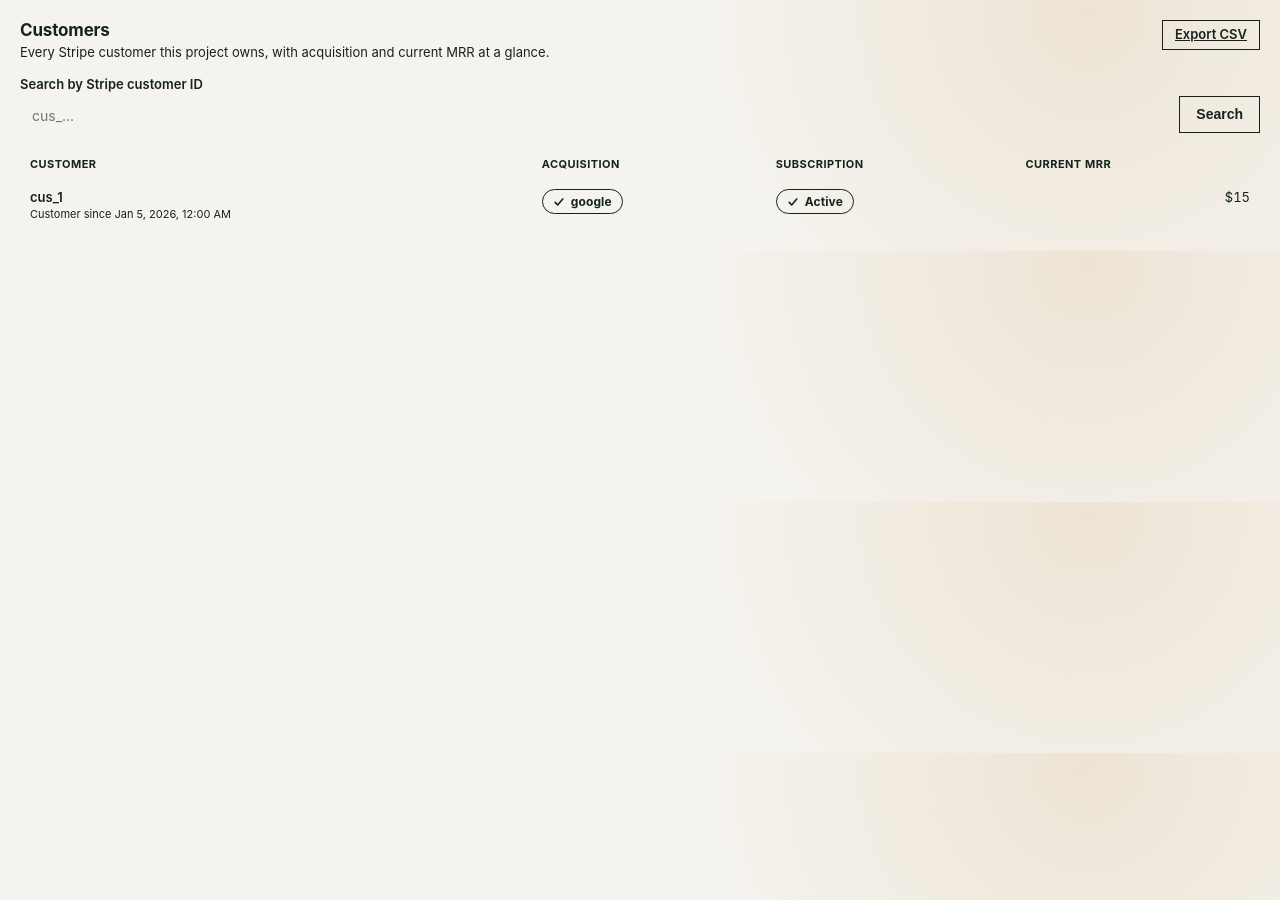
Scenario: CustomersClient › searches by customer ID and refetches
Expected: the link "cus_1" is shown, [30, 189, 63, 205]
In the field labelled "Search by Stripe customer ID": point(594, 116) [20, 98, 1167, 133], type "match"
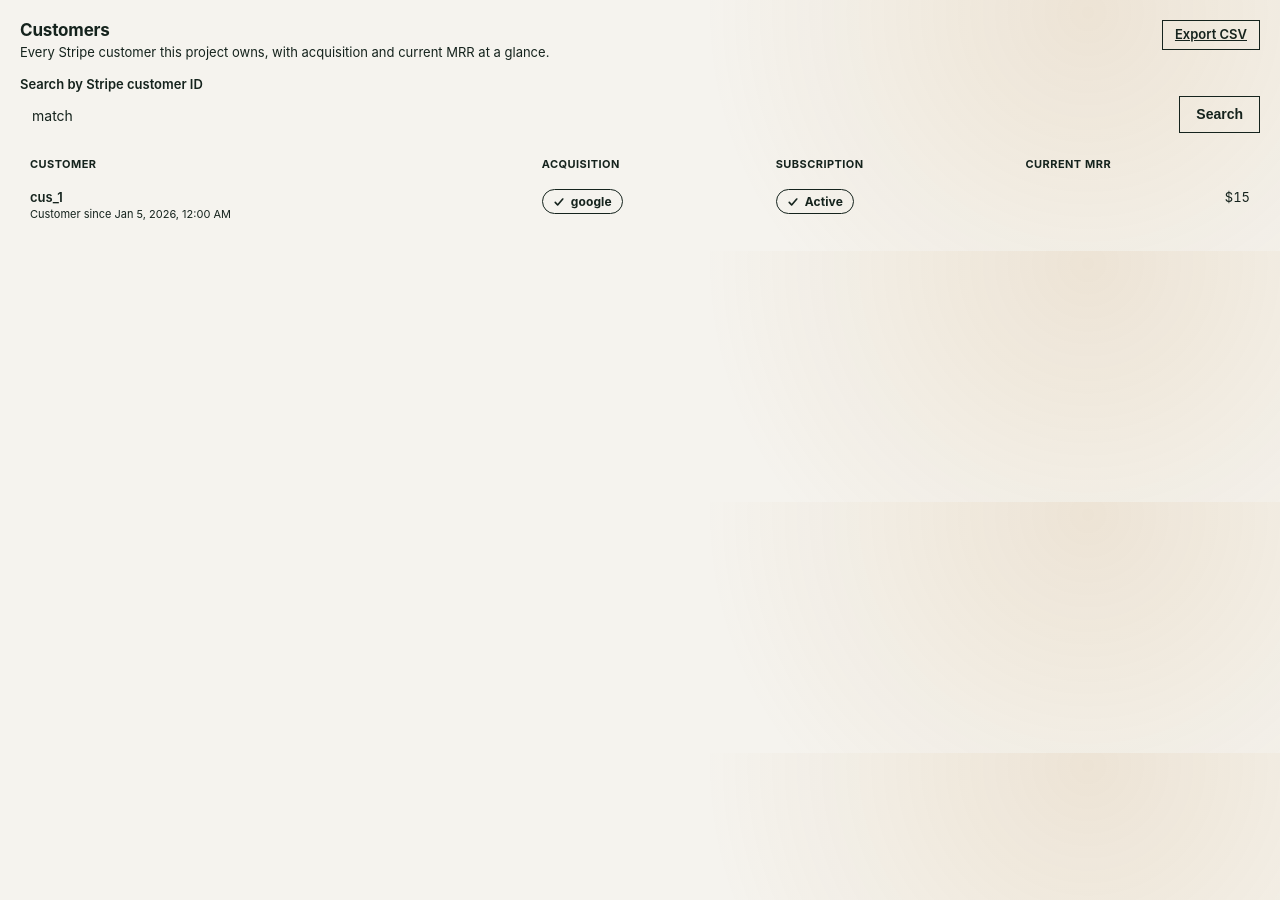
Click the button "Search": point(1220, 115) [1179, 96, 1260, 133]
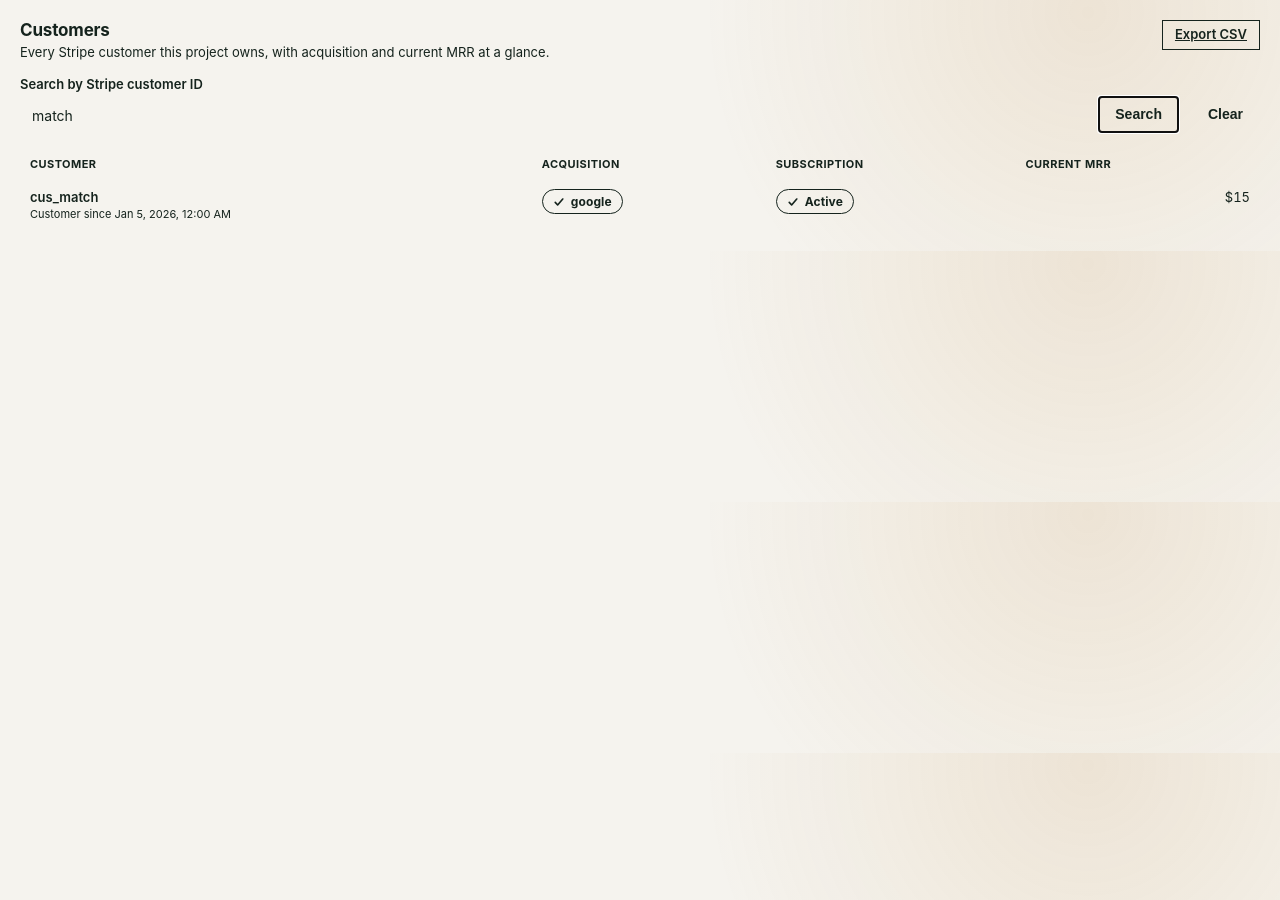
Now the link "cus_match" is shown, box [30, 189, 98, 205]
